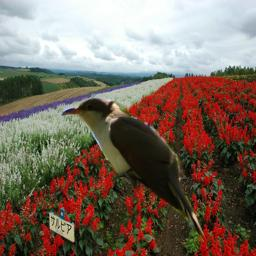Cuckoo: (58, 98, 204, 243)
